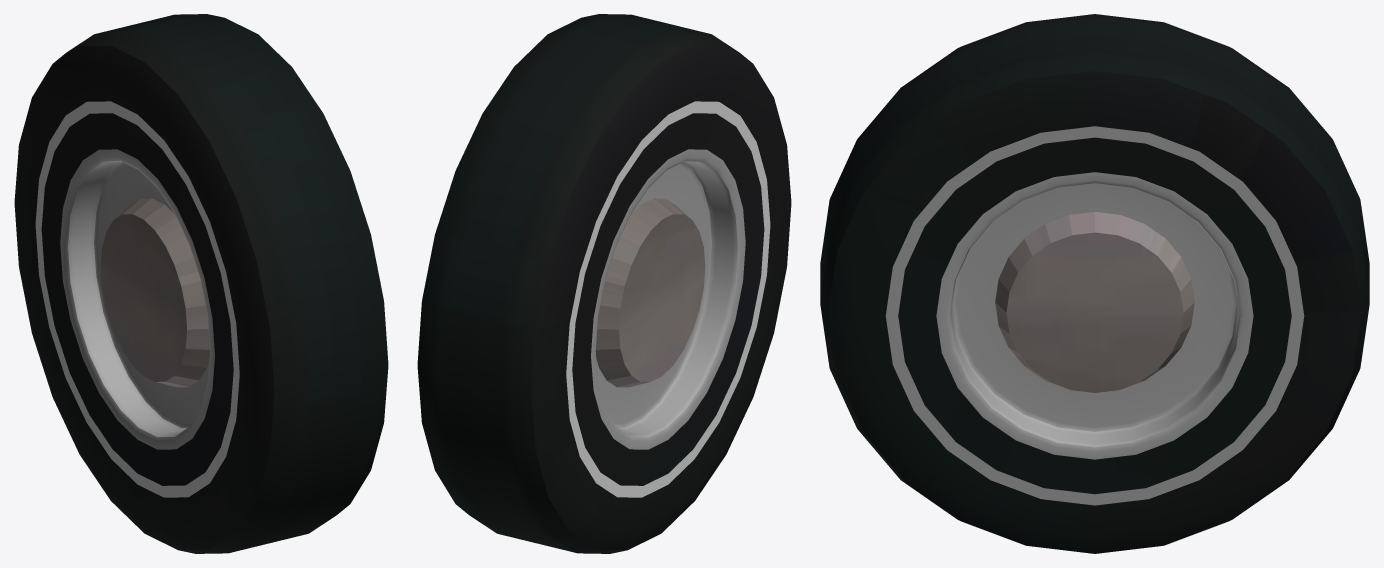
Rendered from CarTire.fbx.
The picture shows the model from 3 angles, left to right: view 1: azimuth 30°, elevation 25°; view 2: azimuth 150°, elevation 25°; view 3: azimuth 270°, elevation 25°; orthographic projection. The views are drawn at different scales.
Visible parts, largest first — view 1: polySurface22; view 2: polySurface22; view 3: polySurface22.
Part boxes in pixels (x1,y1,x2,y2): polySurface22: [14, 14, 388, 553]; polySurface22: [417, 14, 791, 553]; polySurface22: [820, 14, 1369, 553].
Bounding box in the file's own units: 1.15 × 4.19 × 4.19.
